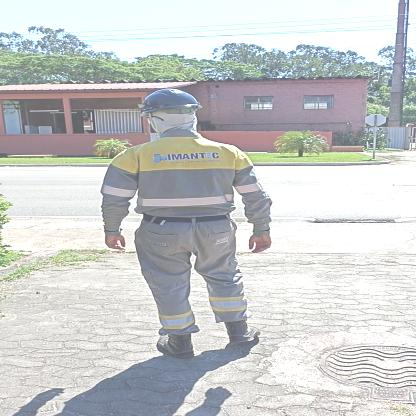Balaclava: (150, 112, 200, 136)
Capacete: (138, 86, 209, 112)
